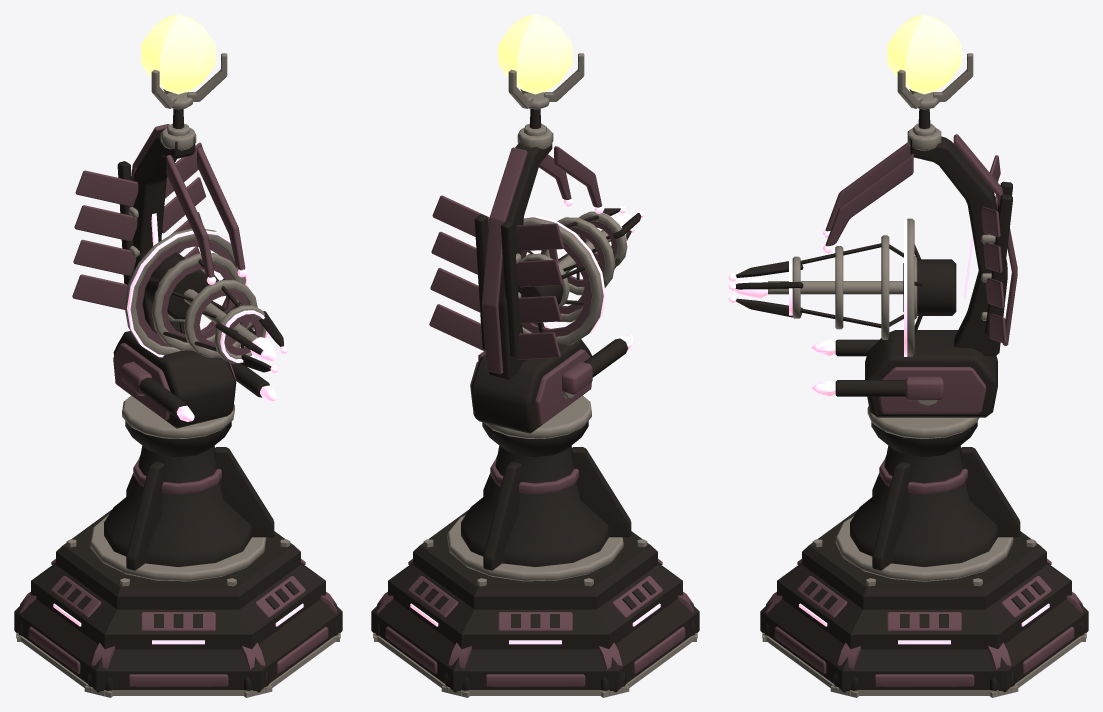
File: tower_lance.glb
The picture shows the model from 3 angles, left to right: view 1: azimuth 30°, elevation 25°; view 2: azimuth 150°, elevation 25°; view 3: azimuth 270°, elevation 25°; orthographic projection.
Visible parts, largest first — view 1: base, turret, lvl3, barrel, lvl2, tower_lance; view 2: base, turret, lvl3, barrel, tower_lance, lvl2; view 3: base, turret, barrel, lvl3, tower_lance, lvl2.
Part boxes in pixels (x1=…): base: x1=14, y1=421, x2=342, y2=697; turret: x1=113, y1=53, x2=247, y2=438; lvl3: x1=72, y1=142, x2=277, y2=421; barrel: x1=144, y1=252, x2=276, y2=363; lvl2: x1=124, y1=228, x2=287, y2=372; tower_lance: x1=141, y1=14, x2=215, y2=94; base: x1=371, y1=421, x2=699, y2=697; turret: x1=470, y1=53, x2=604, y2=438; lvl3: x1=429, y1=195, x2=634, y2=394; barrel: x1=518, y1=211, x2=633, y2=323; tower_lance: x1=498, y1=14, x2=572, y2=94; lvl2: x1=522, y1=205, x2=644, y2=345; base: x1=760, y1=422, x2=1088, y2=697; turret: x1=823, y1=53, x2=1017, y2=438; barrel: x1=734, y1=235, x2=956, y2=339; lvl3: x1=811, y1=155, x2=1012, y2=400; tower_lance: x1=887, y1=14, x2=961, y2=94; lvl2: x1=728, y1=218, x2=922, y2=356.
Size of the model in its own units: 1.66 by 3.86 by 2.03.
